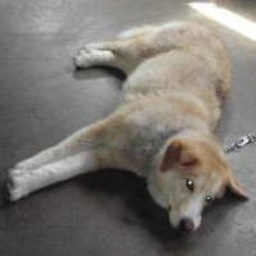dog: (5, 20, 247, 233)
